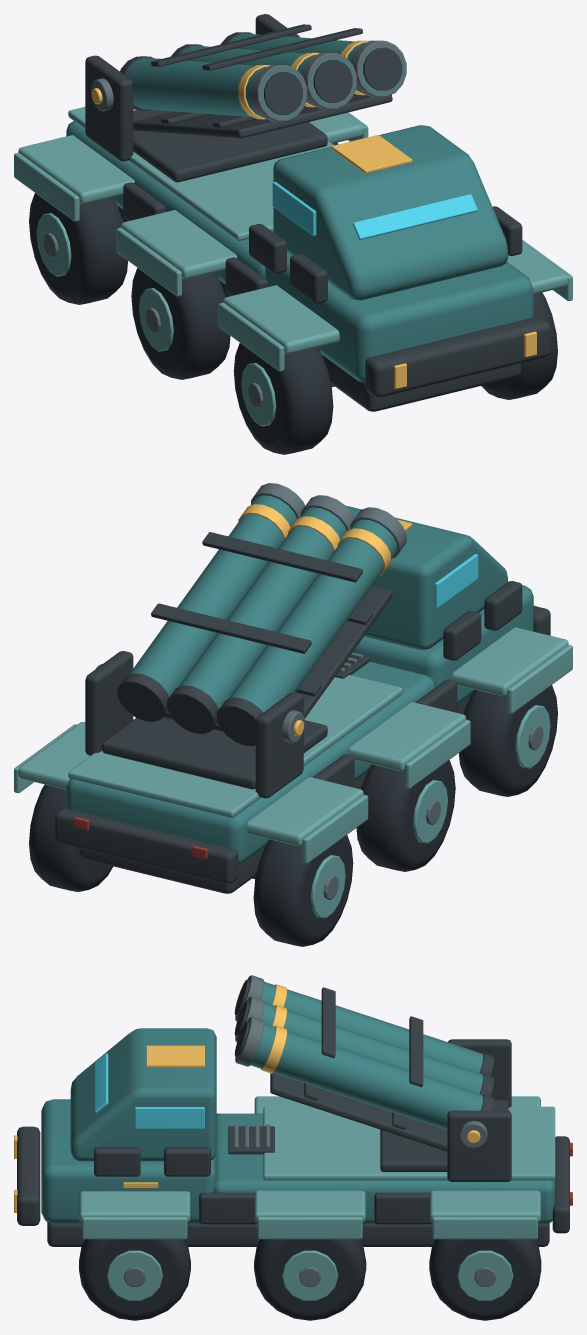
File: meridian-rocket.glb
3 views of the same model, one above another, from view 1: azimuth 30°, elevation 25°; view 2: azimuth 150°, elevation 25°; view 3: azimuth 270°, elevation 25° (orthographic). The views are drawn at different scales.
Visible parts, largest first — view 1: RocketBodyMesh, LauncherMesh, WheelFrontLeftMesh, WheelRearLeftMesh, WheelMiddleLeftMesh, WheelFrontRightMesh; view 2: RocketBodyMesh, LauncherMesh, WheelRearLeftMesh, WheelFrontLeftMesh, WheelMiddleLeftMesh, WheelRearRightMesh; view 3: RocketBodyMesh, LauncherMesh, WheelMiddleRightMesh, WheelRearRightMesh, WheelFrontRightMesh.
Part boxes in pixels (<box>): RocketBodyMesh: <box>14,14,572,411</box>; LauncherMesh: <box>120,24,406,138</box>; WheelFrontLeftMesh: <box>233,343,333,454</box>; WheelRearLeftMesh: <box>29,193,127,304</box>; WheelMiddleLeftMesh: <box>131,268,230,379</box>; WheelFrontRightMesh: <box>481,292,557,399</box>; RocketBodyMesh: <box>14,505,572,893</box>; LauncherMesh: <box>117,483,406,746</box>; WheelRearLeftMesh: <box>253,835,353,946</box>; WheelFrontLeftMesh: <box>459,685,557,796</box>; WheelMiddleLeftMesh: <box>356,760,455,871</box>; WheelRearRightMesh: <box>29,784,113,891</box>; RocketBodyMesh: <box>14,1028,572,1246</box>; LauncherMesh: <box>234,975,494,1151</box>; WheelMiddleRightMesh: <box>254,1239,366,1320</box>; WheelRearRightMesh: <box>429,1239,541,1320</box>; WheelFrontRightMesh: <box>79,1239,190,1320</box>.
Size of the model in its own units: 2.49 by 2.56 by 4.79.
